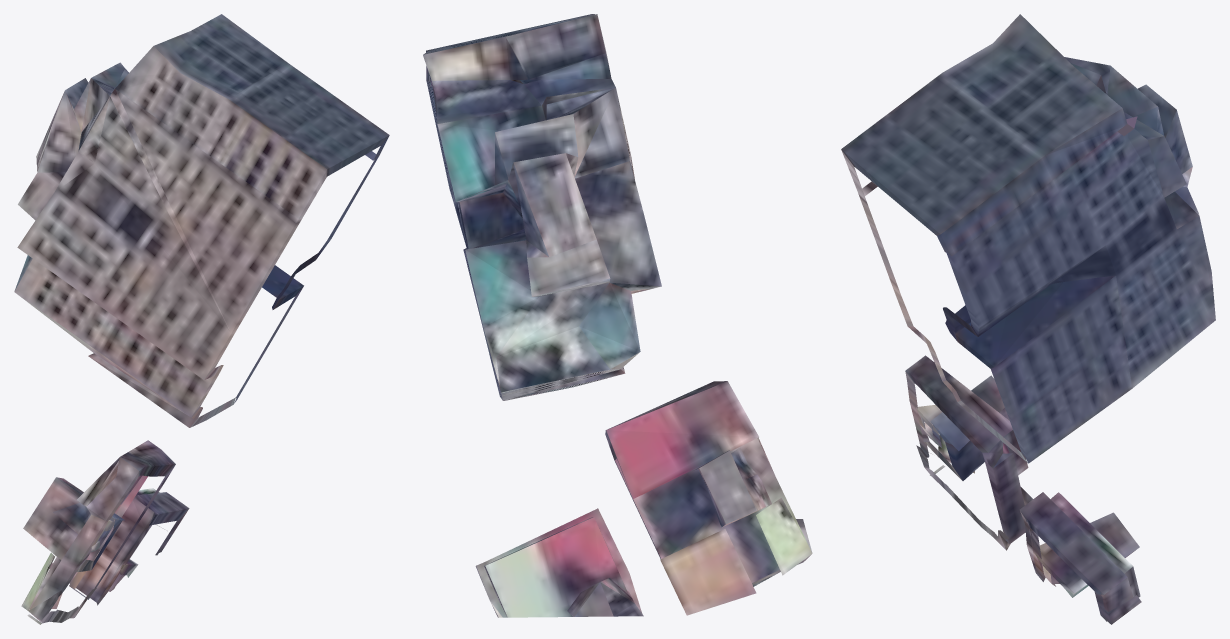
3 views of the same model, side by side, from view 1: azimuth 30°, elevation 25°; view 2: azimuth 150°, elevation 25°; view 3: azimuth 270°, elevation 25° (orthographic). The views are drawn at different scales.
Size of the model in its own units: 62.92 by 92.27 by 52.96.
Materials: 1 (1 with a texture image).
